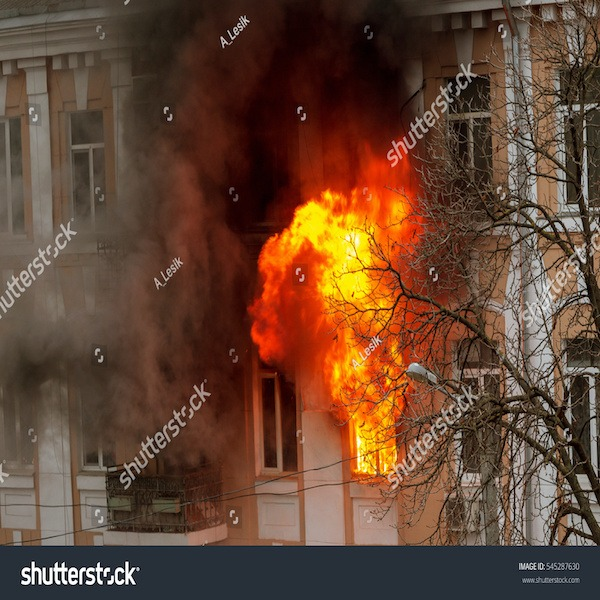fire: (256, 195, 421, 343), (353, 116, 423, 256), (326, 346, 397, 472)
